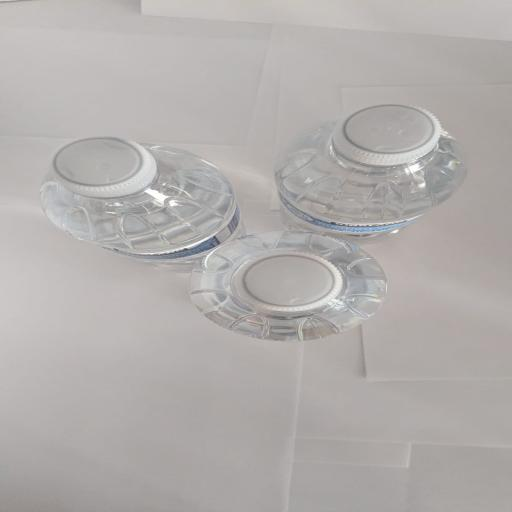waterbottle: (41, 138, 241, 269), (275, 105, 466, 239)
